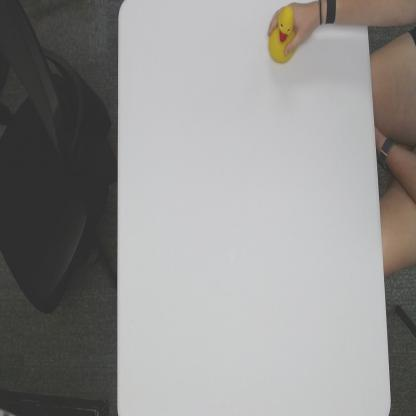Arm: (336, 0, 367, 26)
Duck: (267, 5, 297, 66)
Hand: (268, 0, 323, 60)
